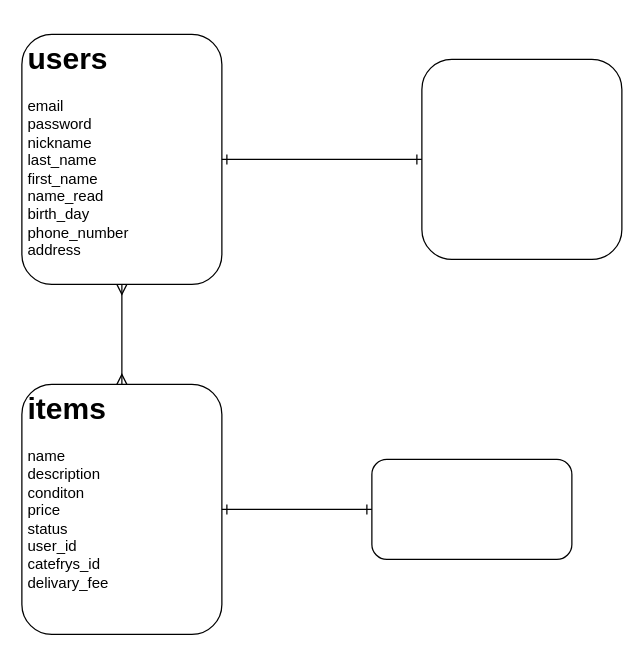
Some shapes in this 644 by 656 pixel diagram are drawn without their labels. The shapes that lost their labels are listed below. From the top down, each one's centre as x and y in pixels, then its label:
At (x=521, y=158): "adress posal_code prefecture city house_number building_name user_id".
At (x=471, y=508): "categrys name".
